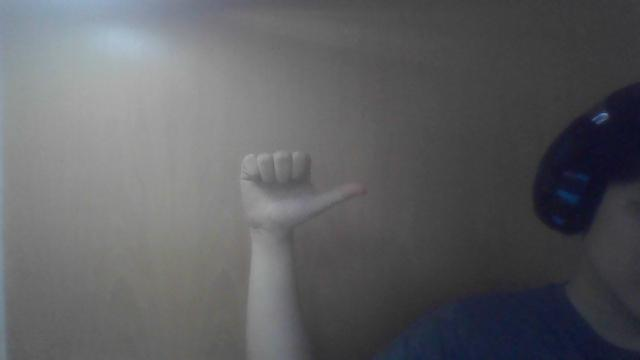left: (235, 146, 378, 234)
